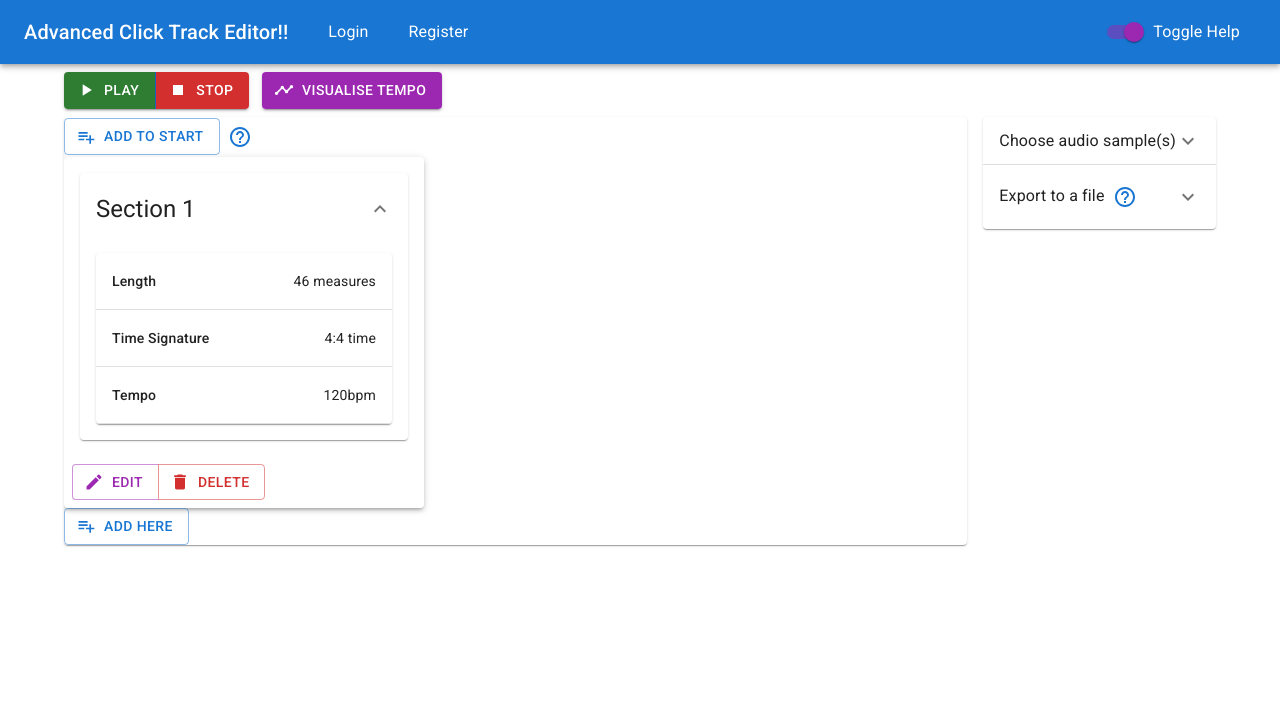
Test: Clicktrack app › User can delete section
The width and height of the screenshot is (1280, 720).
What coordinates should you click on to do the following:
click the button with class "delete-section-button"
I would click on:
 (212, 483)
Its box is [158,464,266,501].
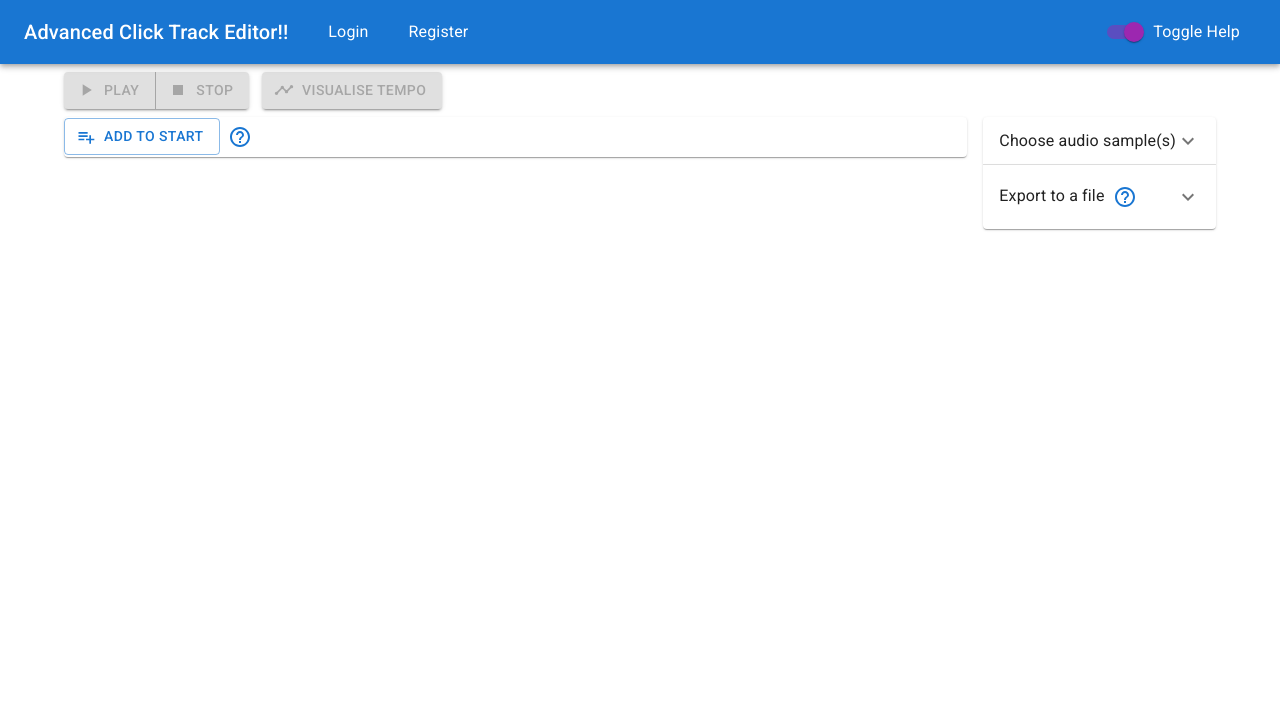
Now the element with class "section-display" is gone
